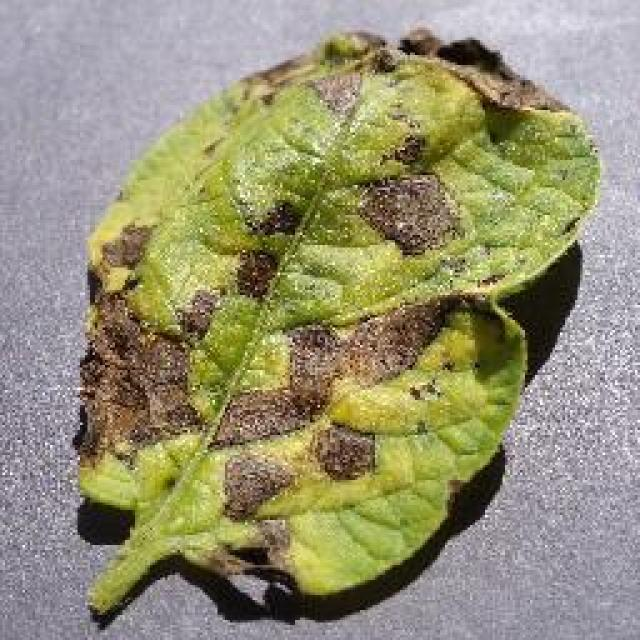early_blight: (70, 23, 605, 625)
